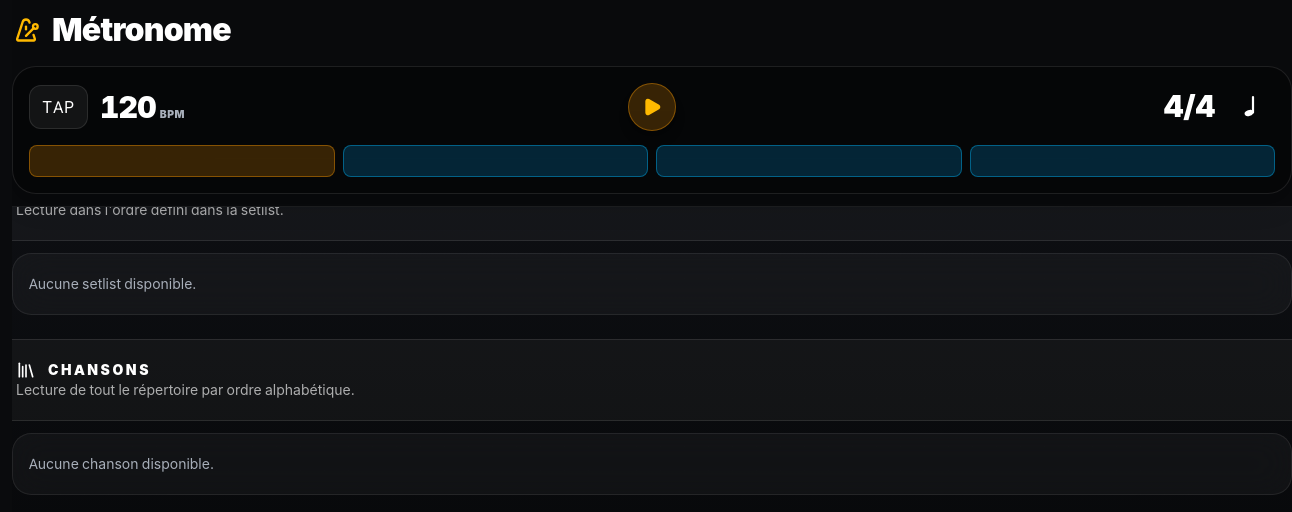
Test: MetronomePage - Personnalisation des 3 sons par temps › permet de faire défiler les 3 sons en boucle au clic sur chaque temps
# 1er clic sur temps 1 : passe à son médium
Step 1. Click the button named "Temps 1 : Son aigu. Cliquer pour changer." → (182, 161), box [29, 145, 334, 177]
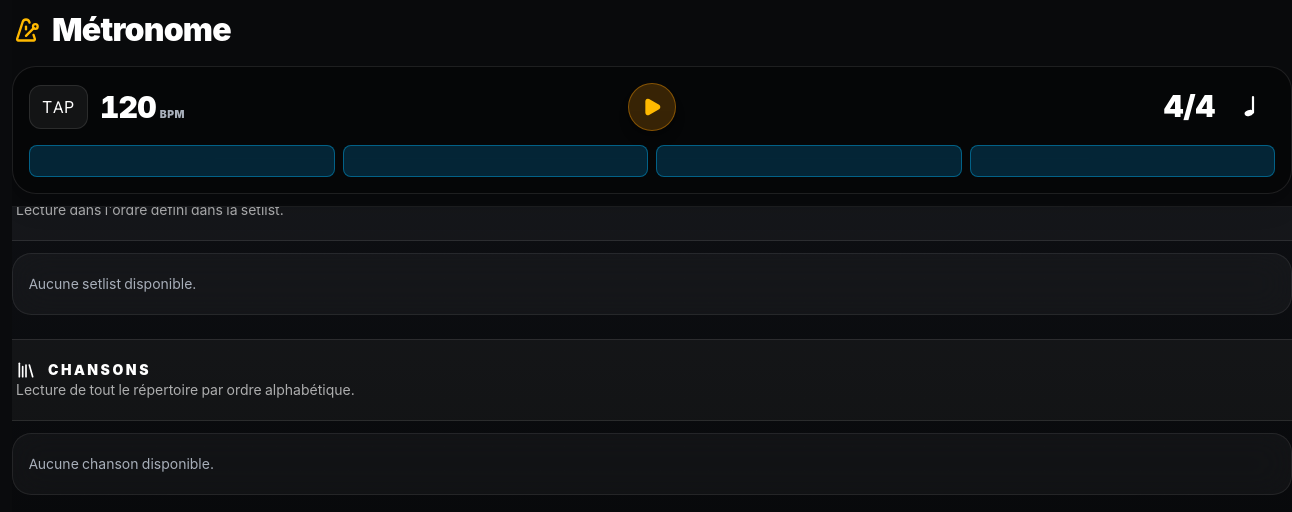
Result: the button named "Temps 1 : Son médium. Cliquer pour changer." is shown
# 2ème clic sur temps 1 : passe à son grave
Step 2. Click the button named "Temps 1 : Son médium. Cliquer pour changer." → (182, 161), box [29, 145, 334, 177]
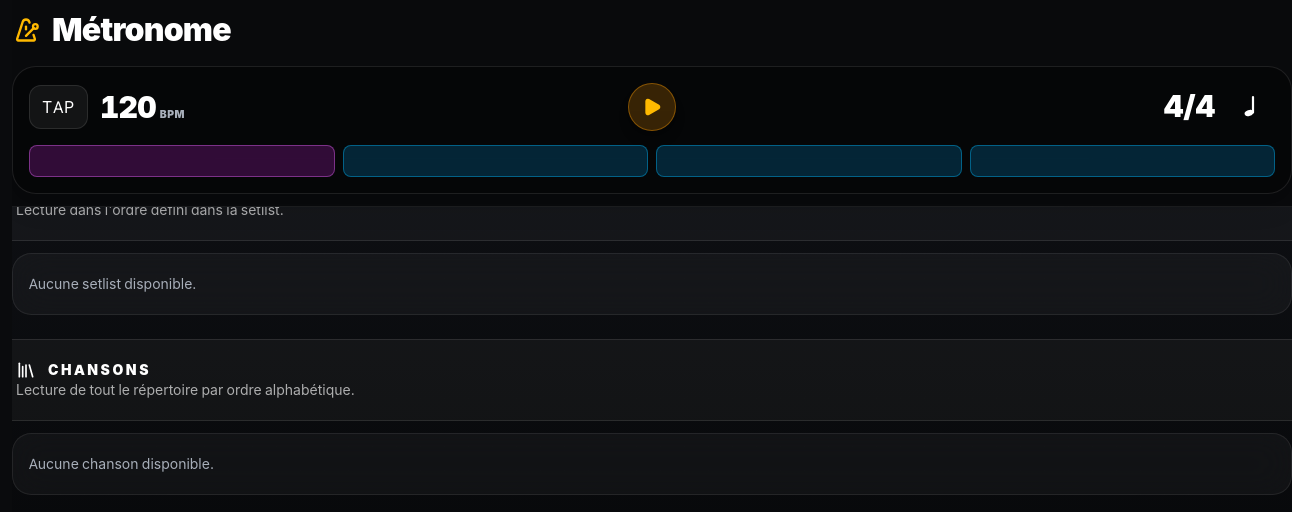
Result: the button named "Temps 1 : Son grave. Cliquer pour changer." is shown
# 3ème clic sur temps 1 : boucle et revient à son aigu
Step 3. Click the button named "Temps 1 : Son grave. Cliquer pour changer." → (182, 161), box [29, 145, 334, 177]
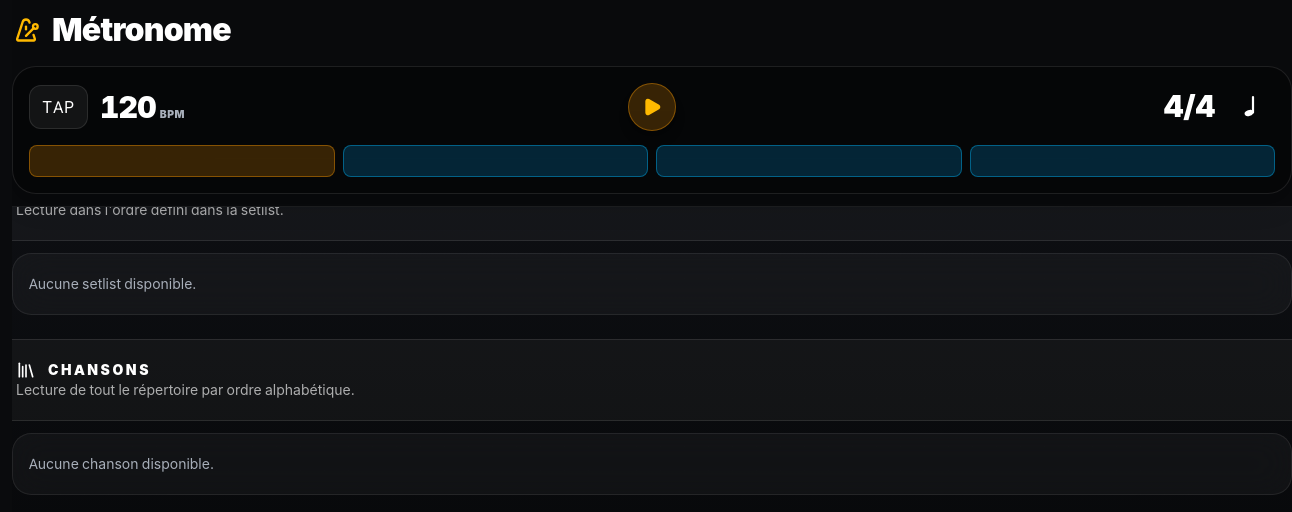
Result: the button named "Temps 1 : Son aigu. Cliquer pour changer." is shown at [29, 145, 334, 177]
# Clic sur temps 2 (qui était médium) : passe à son grave
Step 4. Click the button named "Temps 2 : Son médium. Cliquer pour changer." → (495, 161), box [342, 145, 648, 177]
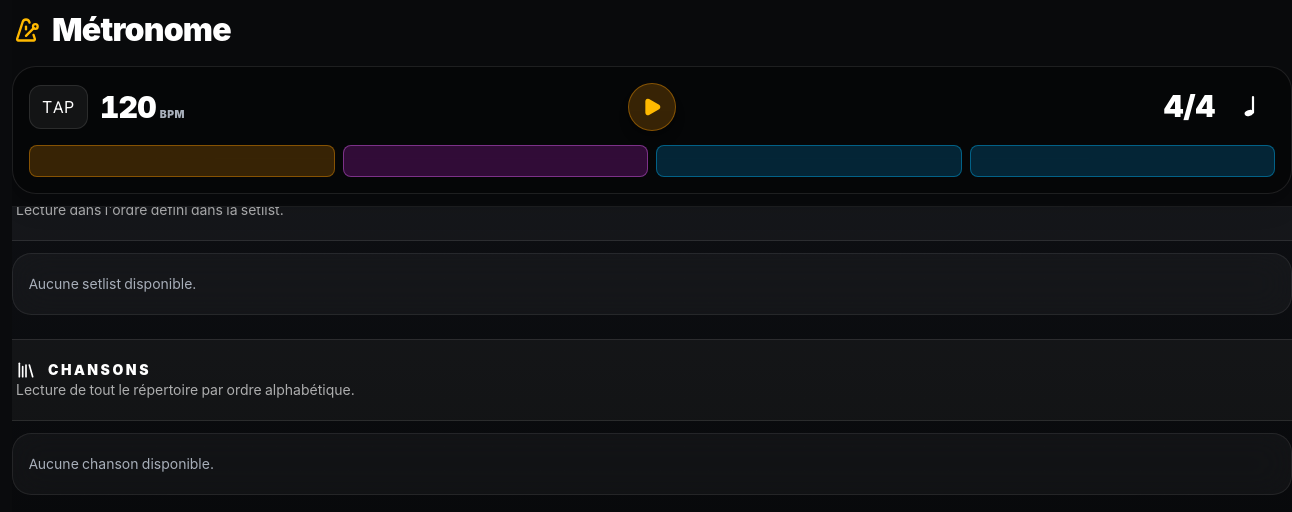
Result: the button named "Temps 2 : Son grave. Cliquer pour changer." is shown at [342, 145, 648, 177]
